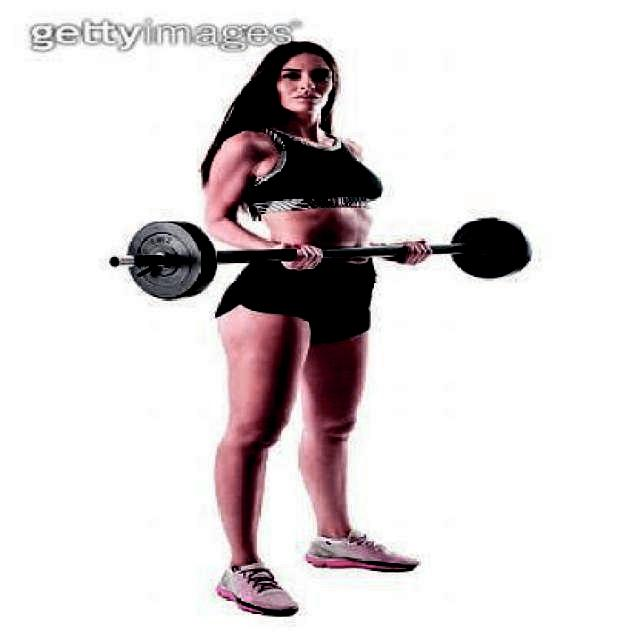barbell: (96, 217, 213, 306)
